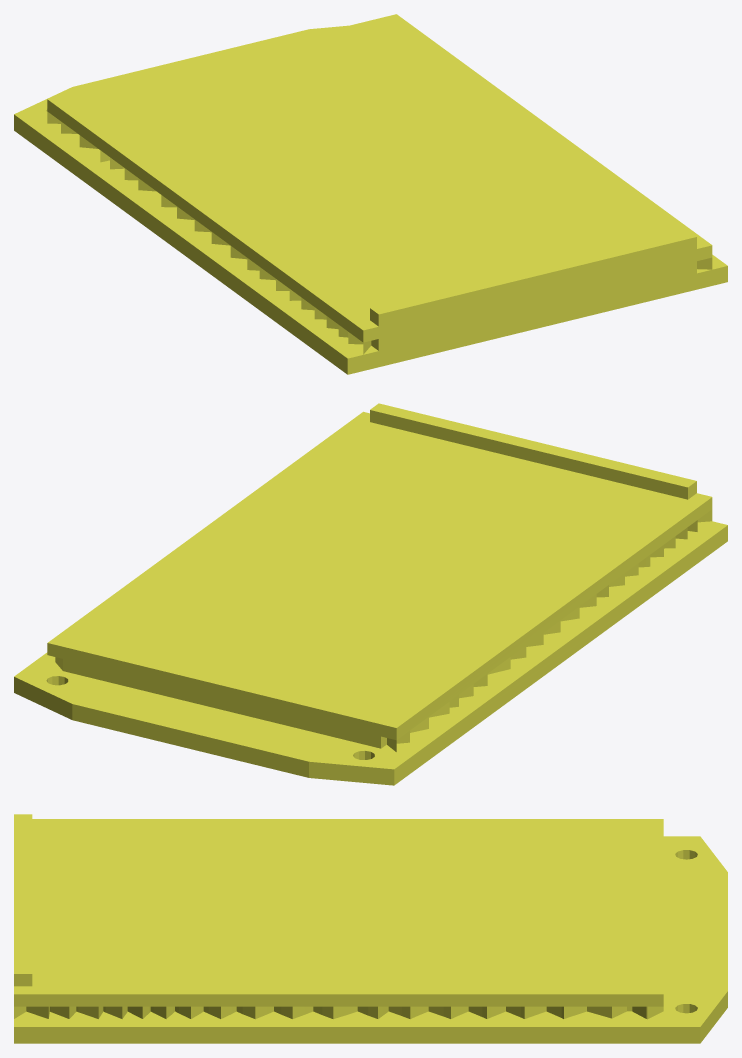
File: Kryshka_podderzh.fbx
3 views of the same model, one above another, from view 1: azimuth 30°, elevation 25°; view 2: azimuth 150°, elevation 25°; view 3: azimuth 270°, elevation 25° (orthographic). The views are drawn at different scales.
Visible parts, largest first — view 1: крыша; view 2: крыша; view 3: крыша.
Part boxes in pixels (x1,y1,x2,y2): крыша: [14, 14, 727, 374]; крыша: [14, 403, 727, 785]; крыша: [14, 814, 727, 1043].
Size of the model in its own units: 9800 by 1300 by 15500.
